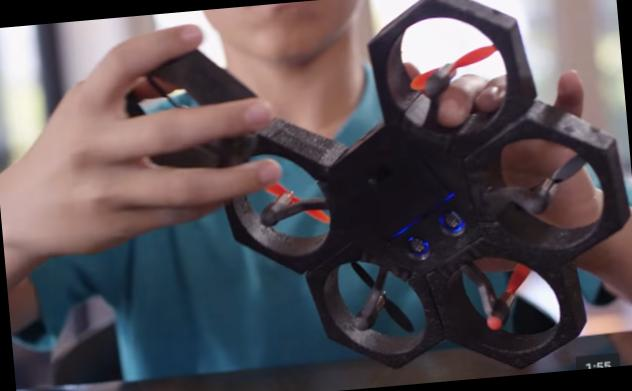drone: (186, 24, 632, 381)
